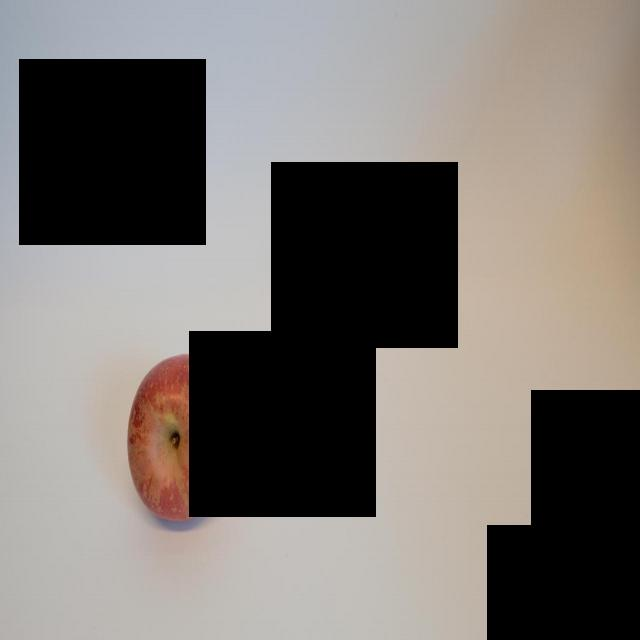apple: (125, 343, 234, 532)
